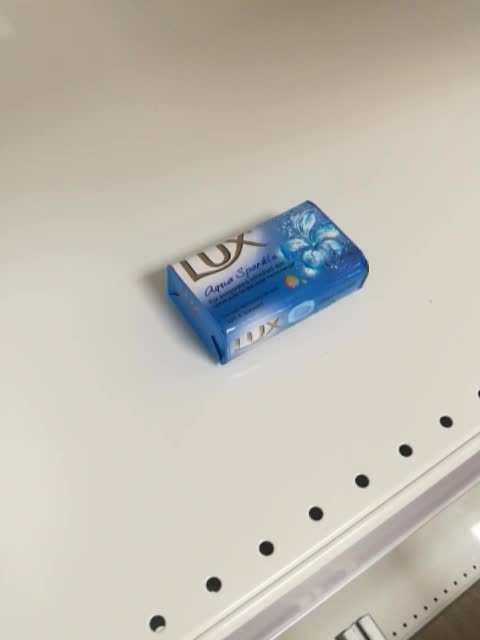soap: (165, 197, 370, 366)
